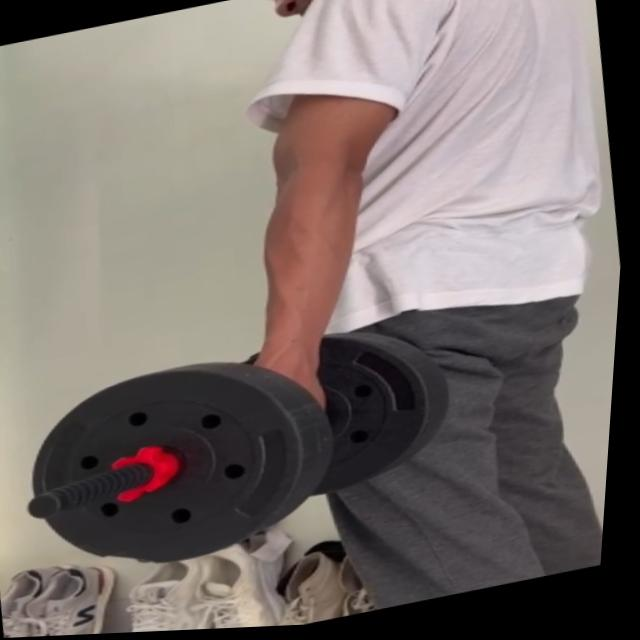dumbbell: (9, 310, 471, 586)
